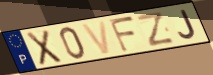0: (58, 25, 87, 61)
F: (107, 15, 139, 54)
J: (177, 8, 198, 40)
V: (79, 19, 112, 56)
X: (25, 28, 64, 67)
Z: (135, 10, 177, 48)
